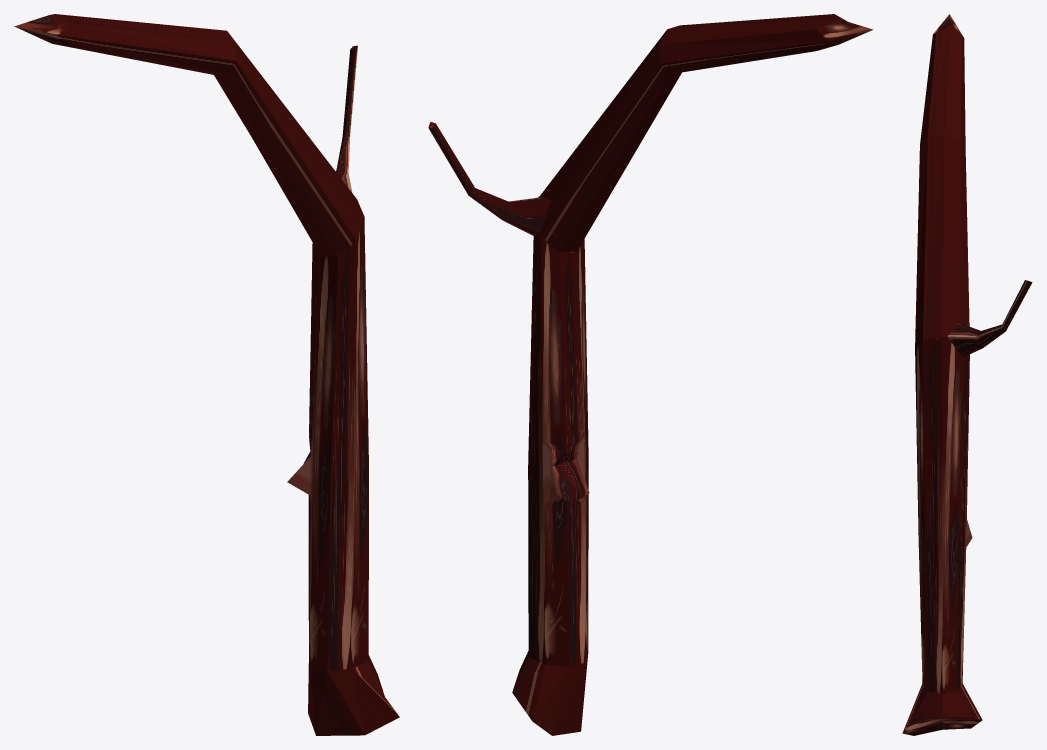
Rendered from Stick_Iteration_2.obj.
The picture shows the model from 3 angles, left to right: view 1: azimuth 30°, elevation 25°; view 2: azimuth 150°, elevation 25°; view 3: azimuth 270°, elevation 25°; orthographic projection. The views are drawn at different scales.
Visible parts, largest first — view 1: Stick_Iteration_2; view 2: Stick_Iteration_2; view 3: Stick_Iteration_2.
Part boxes in pixels (left/top/right/bottom): Stick_Iteration_2: left=14, top=14, right=399, bottom=735; Stick_Iteration_2: left=428, top=14, right=872, bottom=735; Stick_Iteration_2: left=902, top=14, right=1032, bottom=735.
Bounding box in the file's own units: 12.91 × 24.46 × 4.77.
